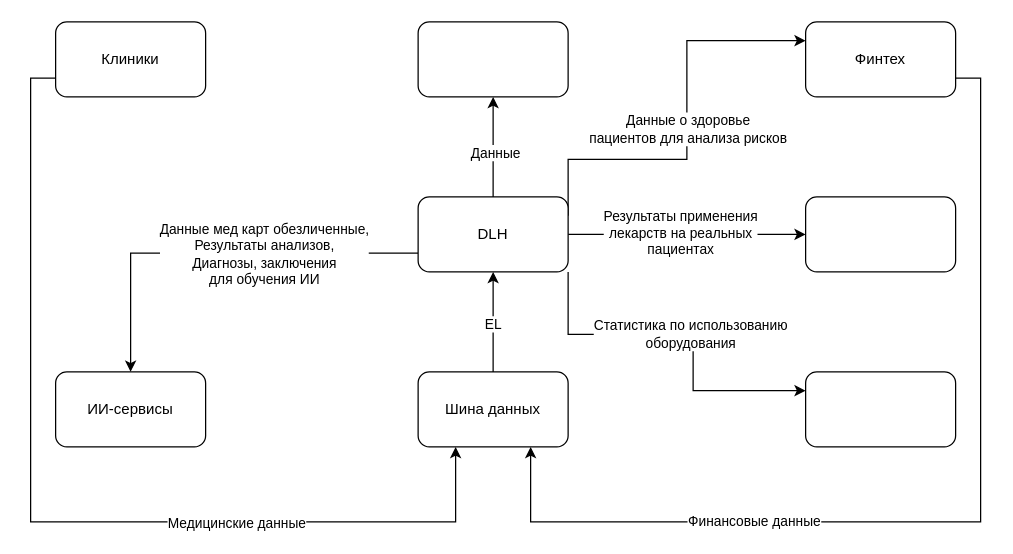
Image size: 1013x554. Some labels were removed from this diagram. Here are the shapes that lost their labels. From the top down, the centre of each, then its label:
[492,59]: BI
[880,234]: Фарм компания
[880,409]: Электроника для мед оборудования
